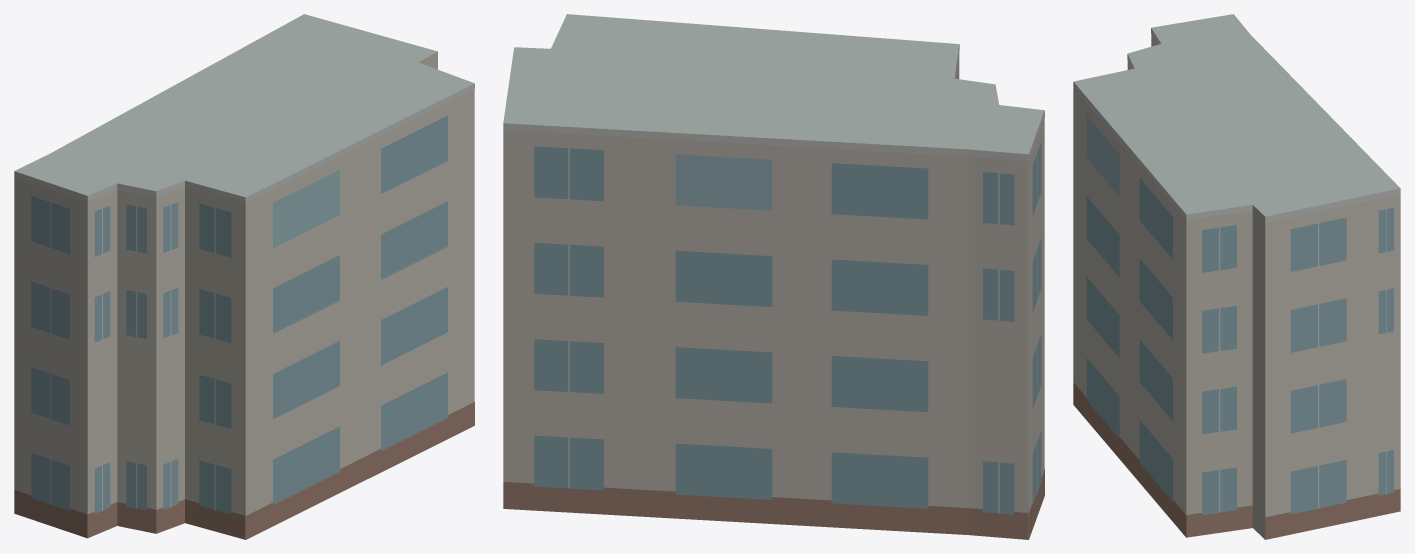
Rendered from survey-upis-32974567.glb.
3 views of the same model, side by side, from view 1: azimuth 30°, elevation 25°; view 2: azimuth 150°, elevation 25°; view 3: azimuth 270°, elevation 25° (orthographic). The views are drawn at different scales.
Parts seen in each view (by area): view 1: survey-upis-32974567.tmp; view 2: survey-upis-32974567.tmp; view 3: survey-upis-32974567.tmp.
Part boxes in pixels (<box>): survey-upis-32974567.tmp: <box>14,14,474,539</box>; survey-upis-32974567.tmp: <box>503,14,1044,539</box>; survey-upis-32974567.tmp: <box>1073,14,1400,539</box>.
Bounding box in the file's own units: 17.88 × 13.28 × 12.19.
